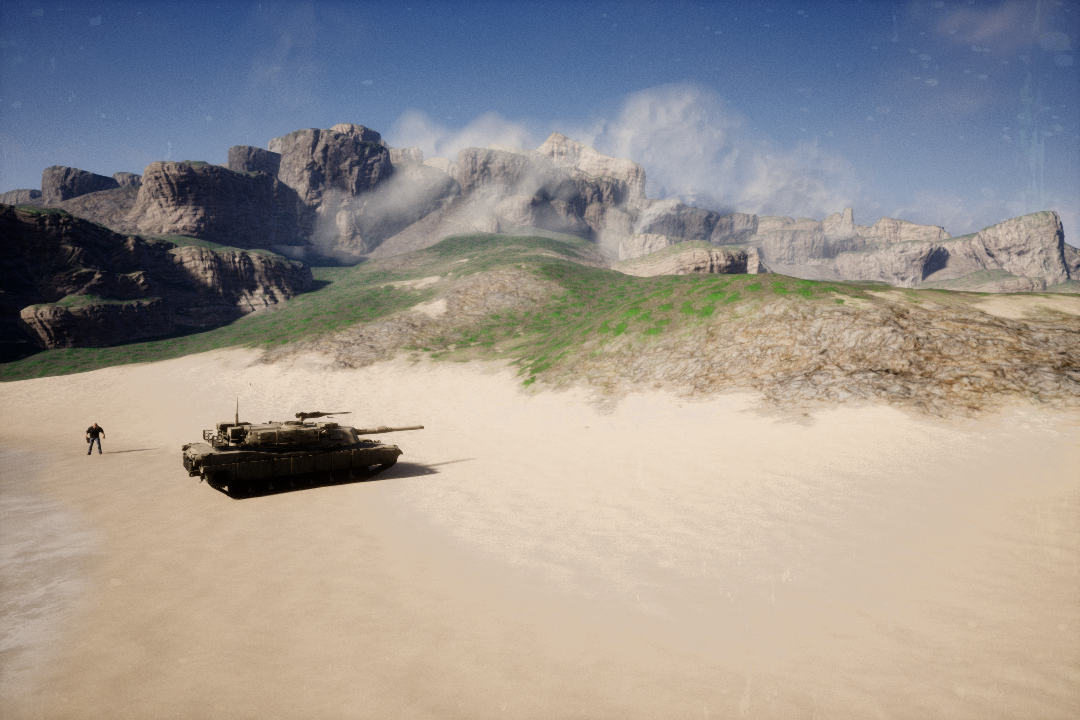person: (86, 414, 111, 461)
tank: (175, 405, 431, 501)
